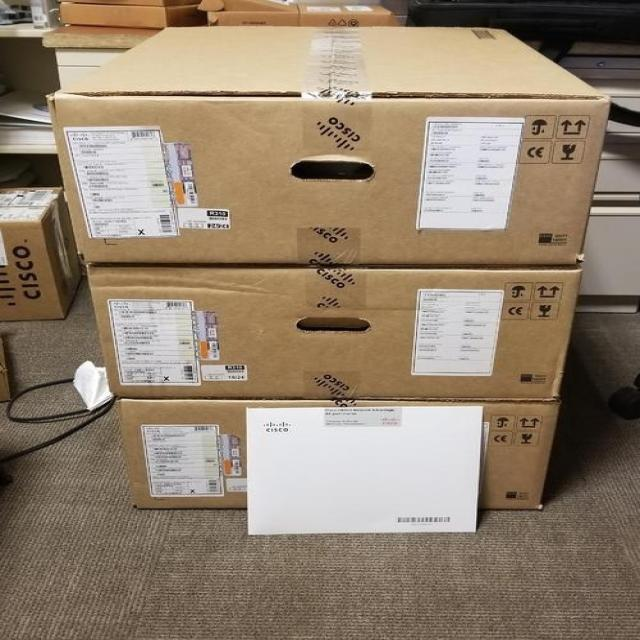box: (46, 26, 610, 267), (87, 263, 581, 400), (116, 400, 558, 509), (0, 186, 84, 321), (57, 2, 207, 26), (201, 0, 305, 28), (297, 1, 394, 28), (62, 1, 200, 7)
